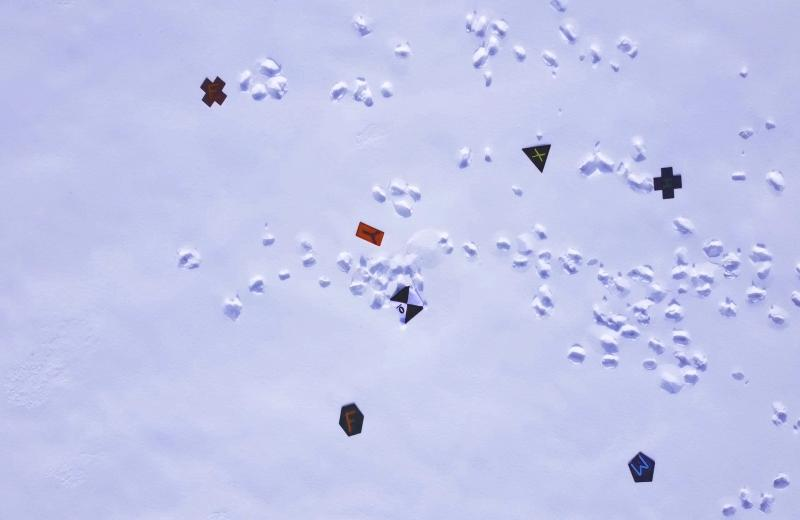Cross: (196, 69, 231, 117), (647, 161, 686, 204)
Hexagon: (333, 399, 371, 444)
Pentagon: (622, 447, 660, 494)
Rectangle: (352, 216, 389, 253)
Triangle: (517, 135, 559, 177)
